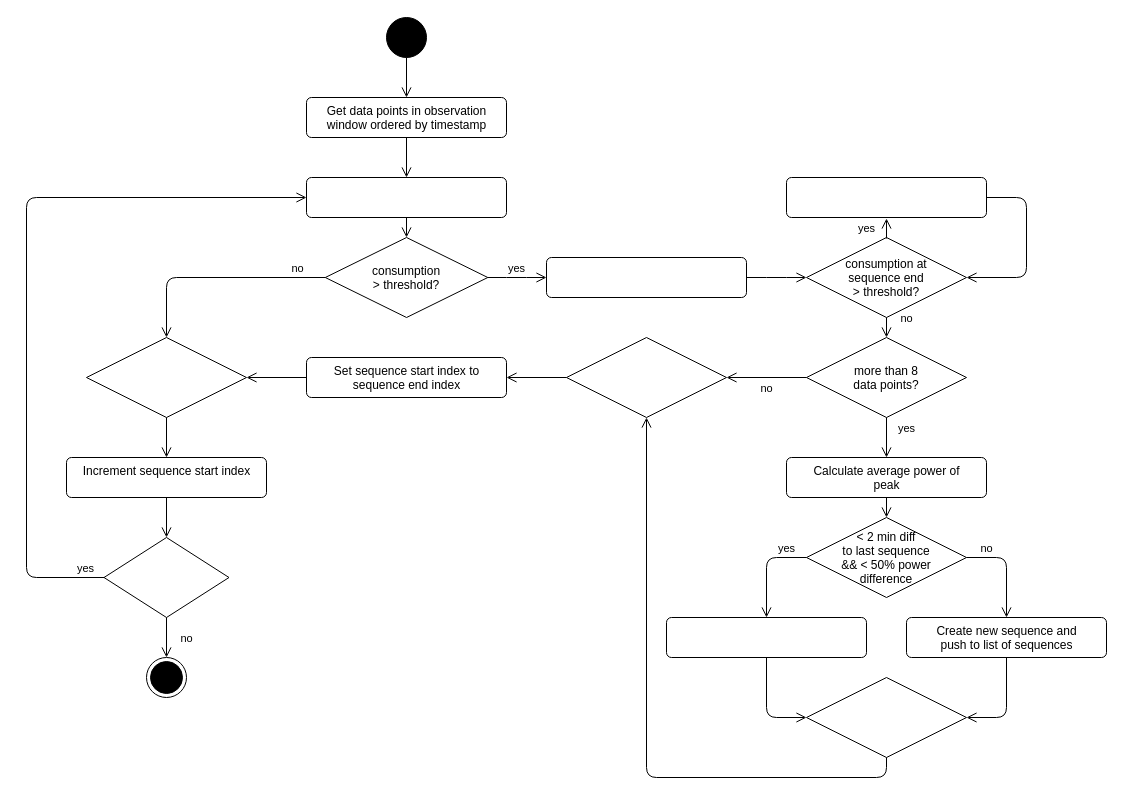
Some shapes in this 1124 by 805 pixel diagram are drawn without their labels. Here are the shapes that lost their labels. From the top down, the box of each, then its label:
(306, 176, 506, 218): Choose data point
(786, 176, 986, 218): Increment sequence end index
(546, 256, 746, 298): Set sequence end index to current index + 1
(103, 536, 229, 618): has next data point?
(666, 616, 866, 658): Update end index of previous sequence
